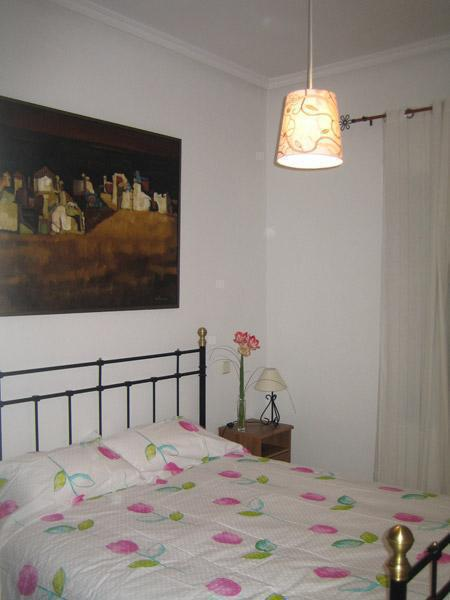Cama: (4, 366, 441, 593)
